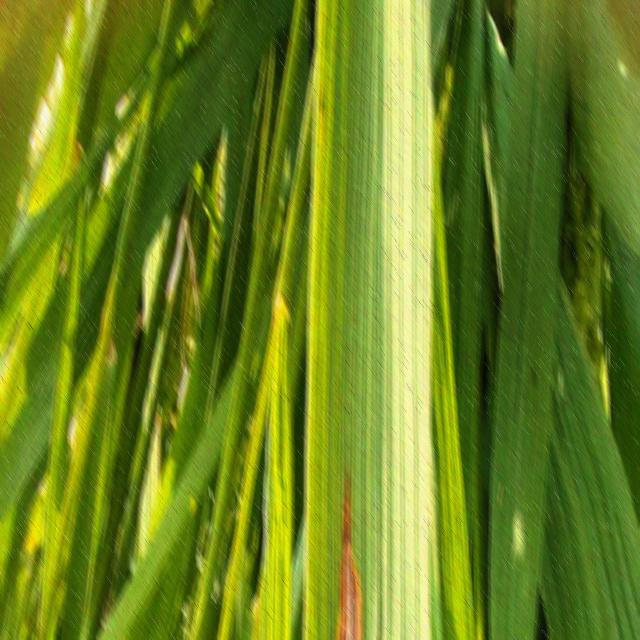LEAF BLAST: (337, 472, 362, 640)
